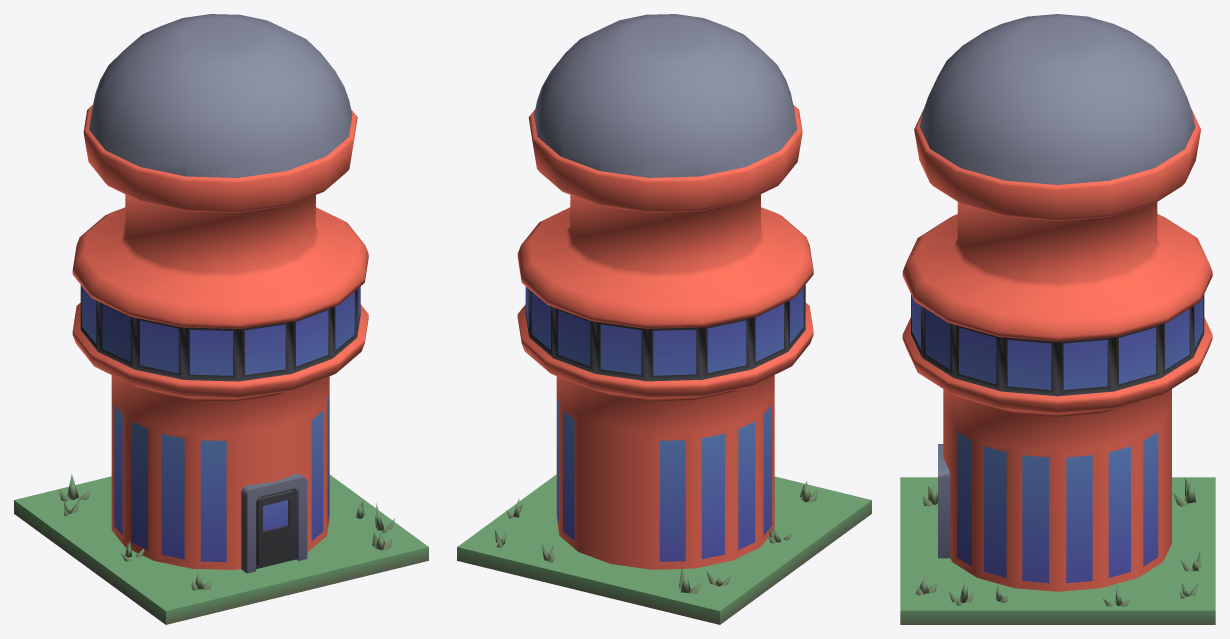
Rendered from sky_garden.glb.
The picture shows the model from 3 angles, left to right: view 1: azimuth 30°, elevation 25°; view 2: azimuth 150°, elevation 25°; view 3: azimuth 270°, elevation 25°; orthographic projection. The views are drawn at different scales.
Parts seen in each view (by area): view 1: sky_garden; view 2: sky_garden; view 3: sky_garden.
Boxes of the visible parts, box(x1,y1,x2,y2) form: sky_garden: box(14, 14, 428, 624); sky_garden: box(457, 14, 871, 624); sky_garden: box(900, 14, 1215, 624).
Size of the model in its own units: 1 by 1.83 by 1.
2 materials, 2 textured.
